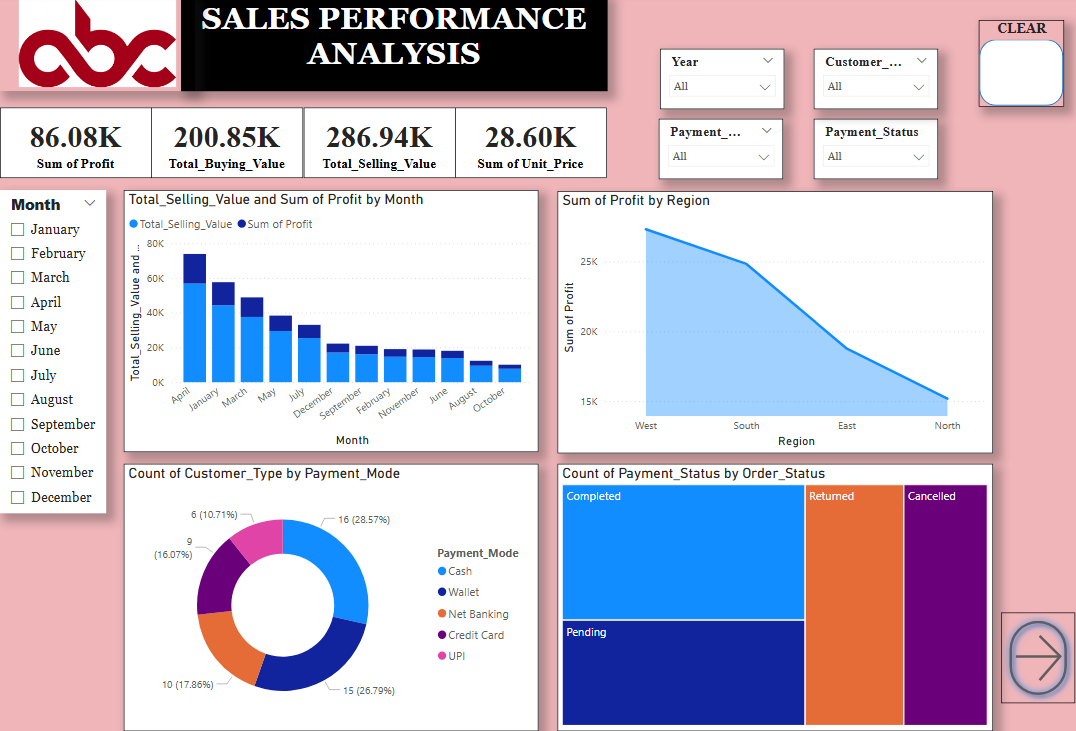

The page's visual inventory and layout, read from the dashboard file:
{"tool":"powerbi","page":{"name":"Analysis 1","canvas":[1280,876],"ordinal":0},"visuals":[{"type":"textbox","box":[215.1,0,507,114.3],"z":0},{"type":"image","box":[0,0,231.7,114.3],"z":1000},{"type":"slicer","fields":{"Values":["project sale.Date.Variation.Date Hierarchy.Year"]},"box":[785,63.3,148.3,71.7],"z":2000},{"type":"shape","title":"CLEAR","box":[1165,30,101.7,103.3],"z":3000},{"type":"card","fields":{"Values":["Sum(project sale.Profit)"]},"box":[0,133.9,180.5,84.3],"z":4000},{"type":"card","fields":{"Values":["Sum(project sale.Unit_Price)"]},"box":[541.6,133.9,180.5,84.3],"z":5000},{"type":"card","fields":{"Values":["project sale.Total_Selling_Value"]},"box":[361.1,133.9,180.5,84.3],"z":6000},{"type":"card","fields":{"Values":["project sale.Total_Buying_Value"]},"box":[180.5,133.9,180.5,84.3],"z":7000},{"type":"slicer","fields":{"Values":["project sale.Payment_Status"]},"box":[968.3,146.7,148.3,71.7],"z":8000},{"type":"slicer","fields":{"Values":["project sale.Payment_Mode"]},"box":[783.3,146.7,148.3,71.7],"z":9000},{"type":"slicer","fields":{"Values":["project sale.Customer_Type"]},"box":[968.3,63.3,148.3,71.7],"z":10000},{"type":"slicer","fields":{"Values":["project sale.Date.Variation.Date Hierarchy.Month"]},"box":[0,231.7,126.4,385.1],"z":11000},{"type":"columnChart","fields":{"Y":["project sale.Total_Selling_Value","Sum(project sale.Profit)"],"Category":["project sale.Month"]},"box":[146.7,231.7,493.3,311.7],"z":12000},{"type":"areaChart","fields":{"Category":["project sale.Region"],"Y":["Sum(project sale.Profit)"]},"box":[663.3,233.3,518.3,311.7],"z":13000},{"type":"donutChart","fields":{"Category":["project sale.Payment_Mode"],"Y":["CountNonNull(project sale.Customer_Type)"]},"box":[146.7,558.3,493.3,318.3],"z":14000},{"type":"treemap","fields":{"Group":["project sale.Order_Status"],"Values":["CountNonNull(project sale.Payment_Status)"]},"box":[663,558,518,318],"z":15000},{"type":"actionButton","box":[1191.7,735,88.3,108.3],"z":16000}]}

Visuals, with their boxes in screenshot pixels (x1, y1, x2, y2), scaled from the page's 1280x876 canvas onto the 1076x731 screenshot:
textbox: crop(181, 0, 607, 95)
image: crop(0, 0, 195, 95)
slicer - project sale.Date.Variation.Date Hierarchy.Year: crop(660, 53, 785, 113)
"CLEAR" shape: crop(979, 25, 1065, 111)
card - Sum(project sale.Profit): crop(0, 112, 152, 182)
card - Sum(project sale.Unit_Price): crop(455, 112, 607, 182)
card - project sale.Total_Selling_Value: crop(304, 112, 455, 182)
card - project sale.Total_Buying_Value: crop(152, 112, 303, 182)
slicer - project sale.Payment_Status: crop(814, 122, 939, 182)
slicer - project sale.Payment_Mode: crop(658, 122, 783, 182)
slicer - project sale.Customer_Type: crop(814, 53, 939, 113)
slicer - project sale.Date.Variation.Date Hierarchy.Month: crop(0, 193, 106, 515)
columnChart - project sale.Total_Selling_Value x Sum(project sale.Profit): crop(123, 193, 538, 453)
areaChart - project sale.Region x Sum(project sale.Profit): crop(558, 195, 993, 455)
donutChart - project sale.Payment_Mode x CountNonNull(project sale.Customer_Type): crop(123, 466, 538, 730)
treemap - project sale.Order_Status x CountNonNull(project sale.Payment_Status): crop(557, 466, 993, 730)
actionButton: crop(1002, 613, 1075, 704)
